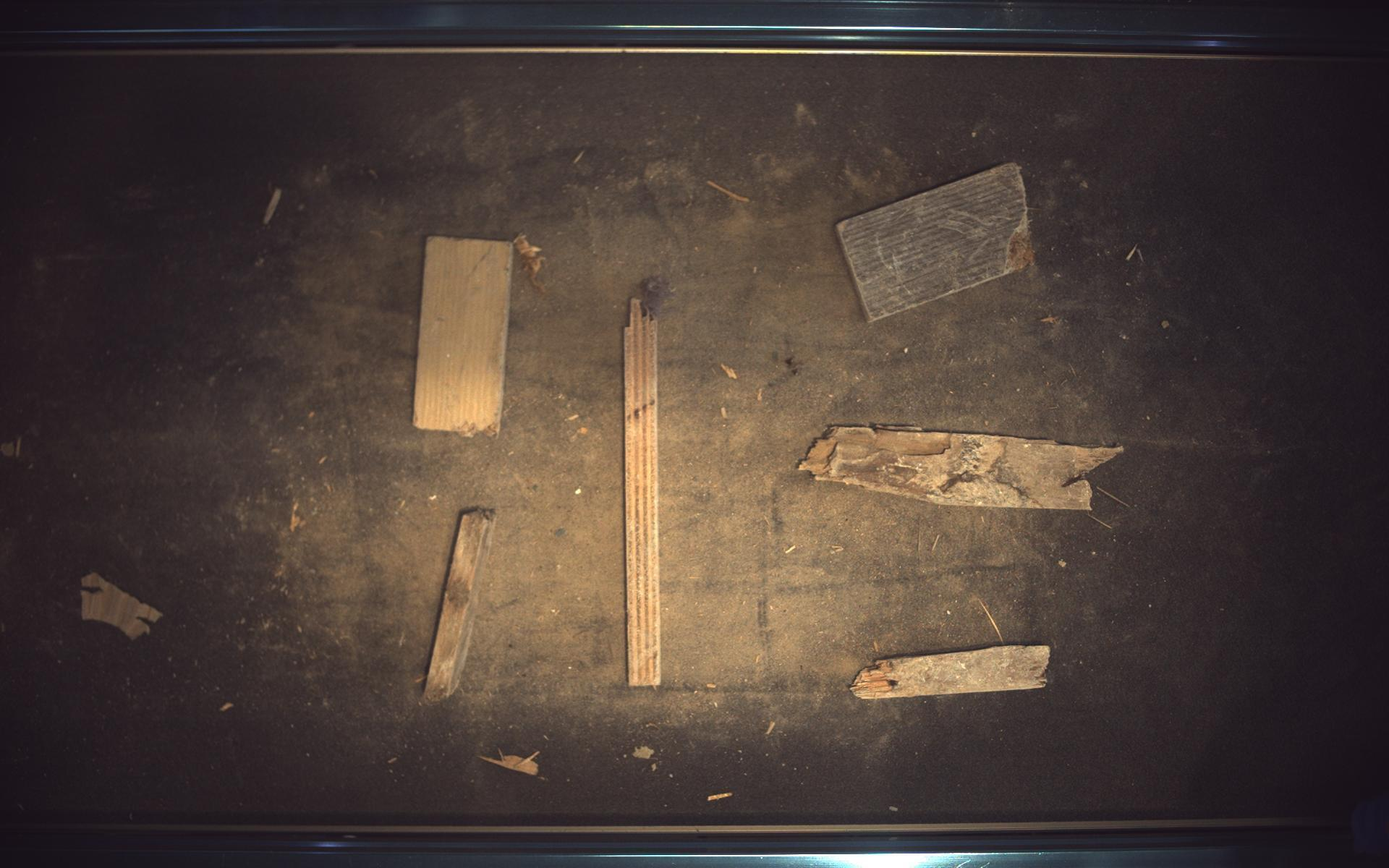wood: (838, 161, 1036, 321), (800, 426, 1125, 511), (413, 236, 513, 435), (624, 298, 662, 687), (424, 509, 496, 702), (845, 640, 1058, 704)
